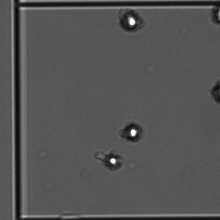Living Cell: (114, 8, 147, 32), (93, 148, 123, 171), (118, 120, 144, 144)
